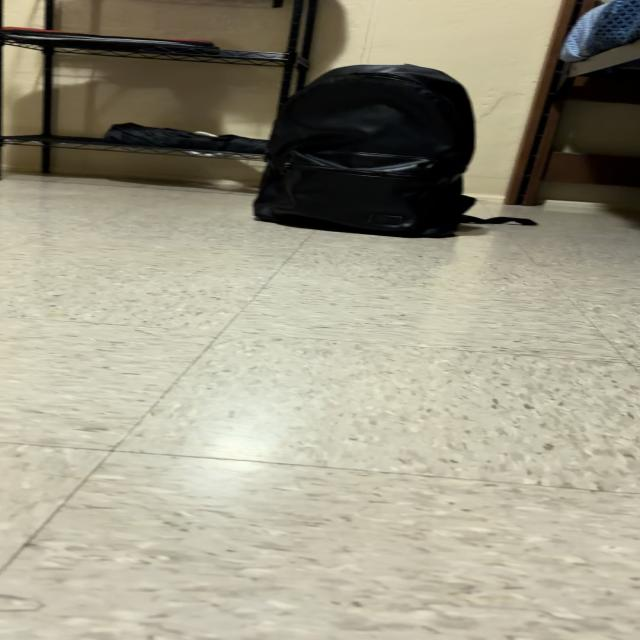backpack: (254, 65, 534, 236)
